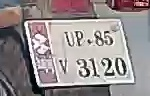0: (113, 55, 129, 78)
1: (88, 57, 101, 80)
2: (100, 56, 114, 80)
3: (74, 54, 90, 81)
5: (102, 30, 115, 49)
8: (93, 29, 104, 49)
P: (74, 29, 83, 49)
U: (65, 30, 75, 48)
V: (58, 57, 70, 74)
